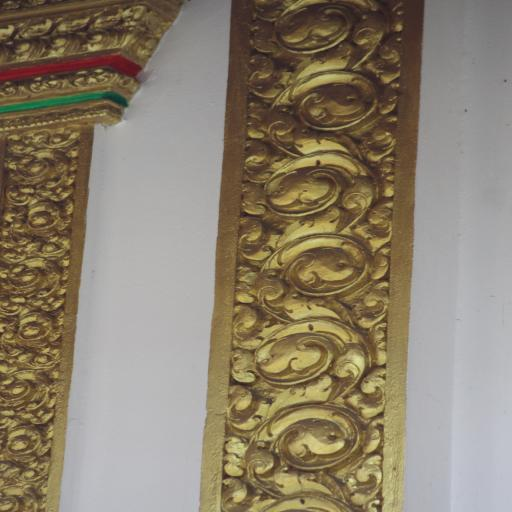la: (228, 295, 386, 500), (243, 134, 392, 297), (252, 0, 404, 133), (0, 124, 76, 199), (0, 418, 54, 512), (0, 197, 72, 259), (0, 255, 66, 315), (0, 314, 62, 372), (0, 372, 57, 422)
